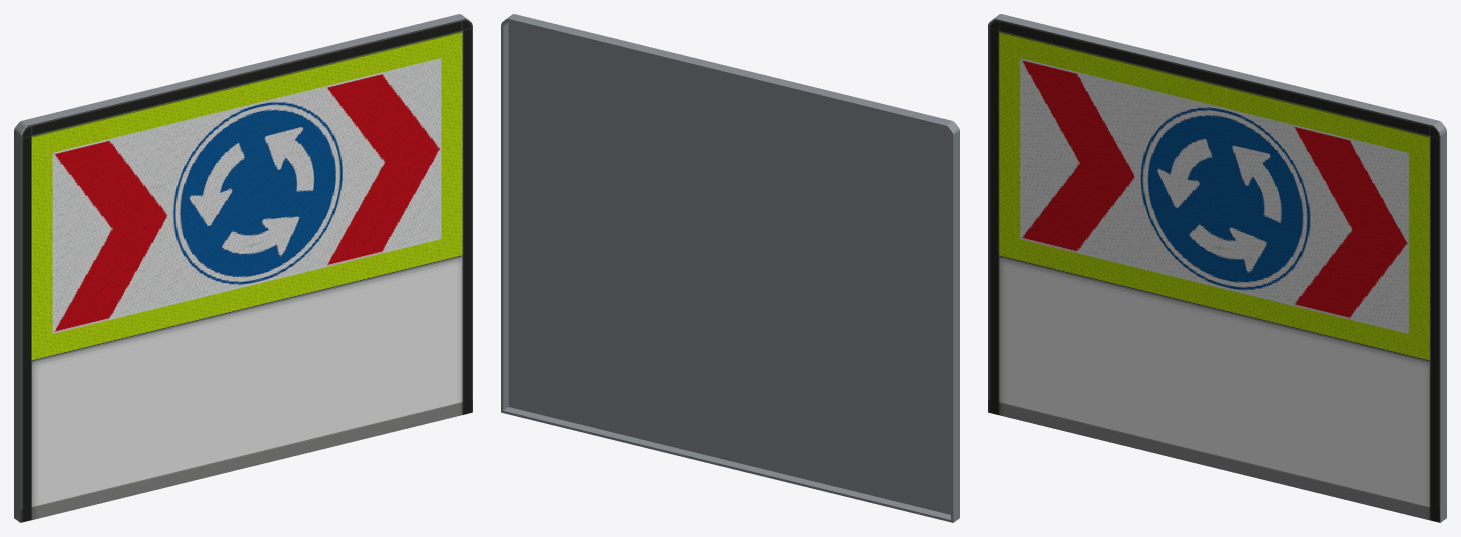
3 views of the same model, side by side, from view 1: azimuth 30°, elevation 25°; view 2: azimuth 150°, elevation 25°; view 3: azimuth 330°, elevation 25° (orthographic).
Parts seen in each view (by area): view 1: cat_37ae596ee66bf7a6; view 2: cat_37ae596ee66bf7a6; view 3: cat_37ae596ee66bf7a6.
Part boxes in pixels (x1=…): cat_37ae596ee66bf7a6: x1=14, y1=14, x2=472, y2=522; cat_37ae596ee66bf7a6: x1=501, y1=14, x2=959, y2=522; cat_37ae596ee66bf7a6: x1=988, y1=14, x2=1446, y2=522.
Bounding box in the file's own units: 0.6 × 0.015 × 0.5013.
2 materials, 1 textured.
